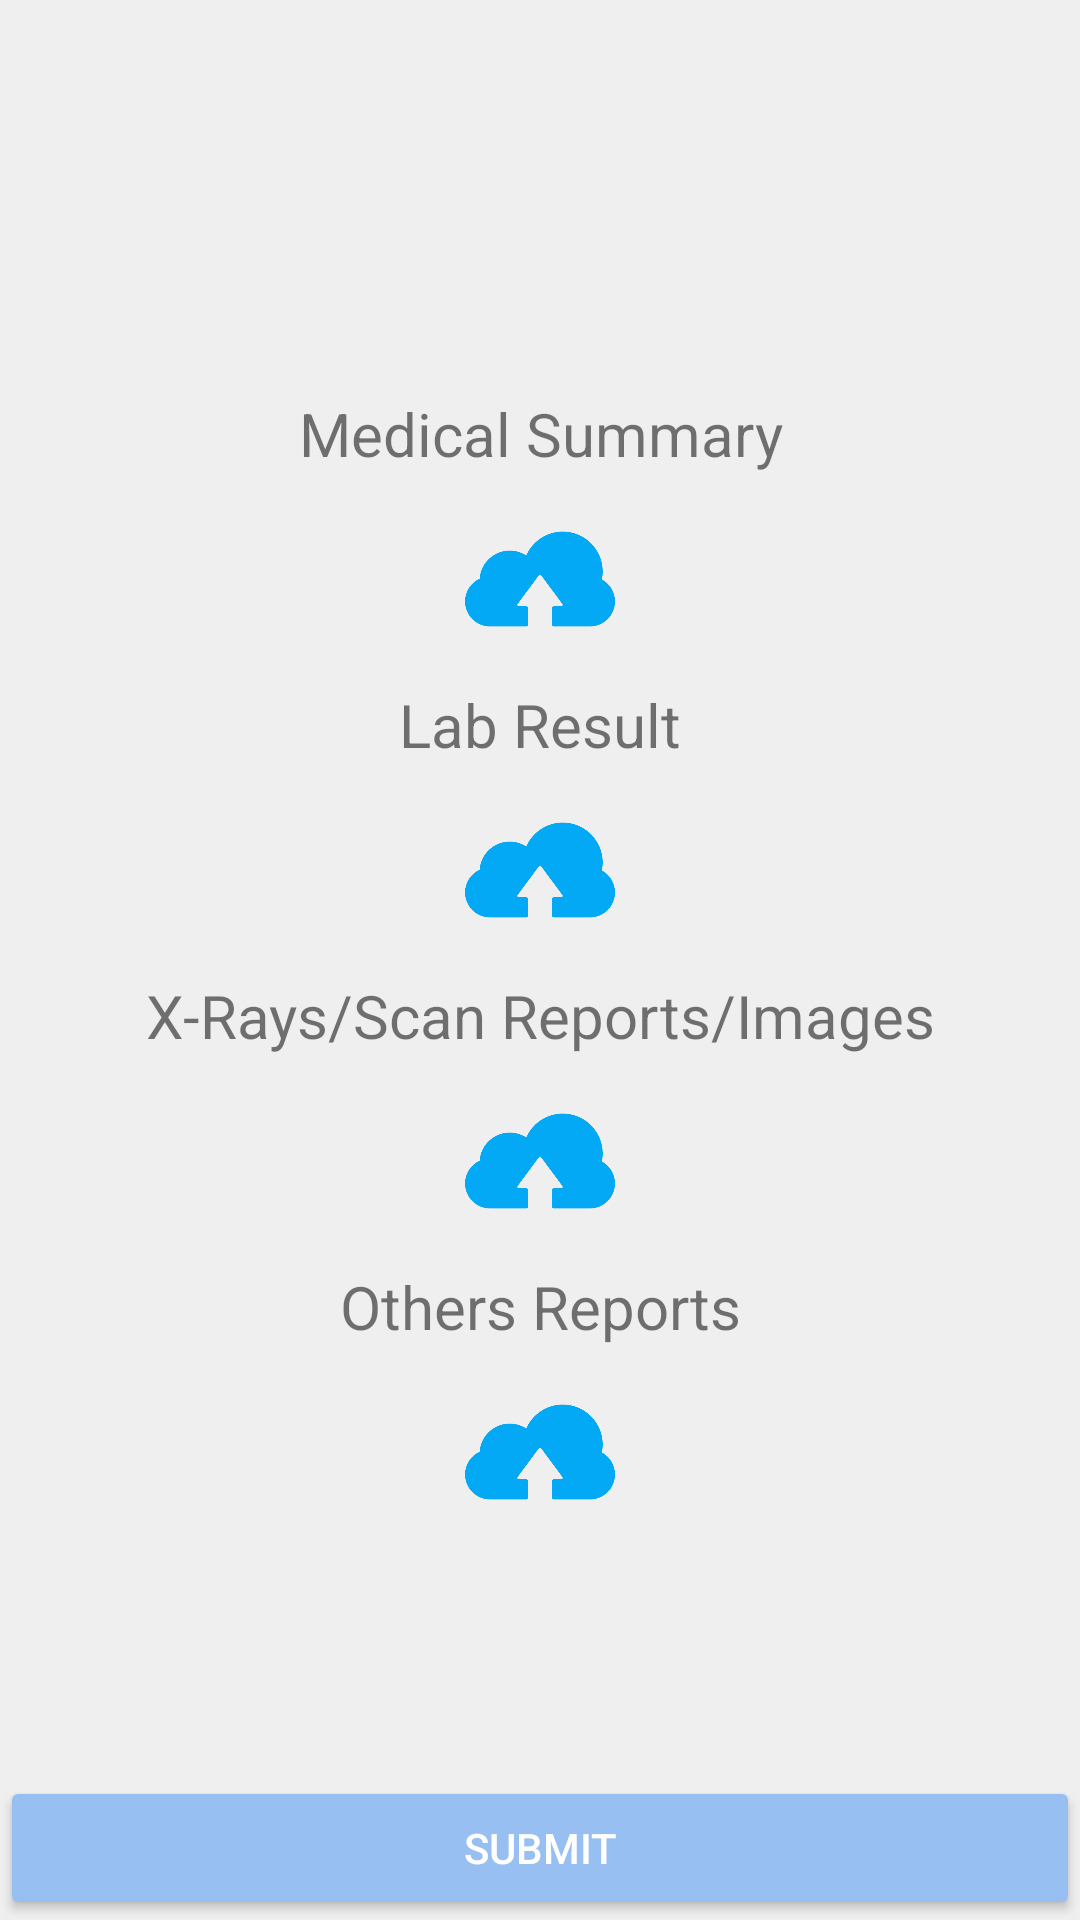

Icons on this 1080 × 1920 Android screen, each with the point to tap as (x,y):
upload: (540,579), (540,870), (540,1161), (540,1452)
